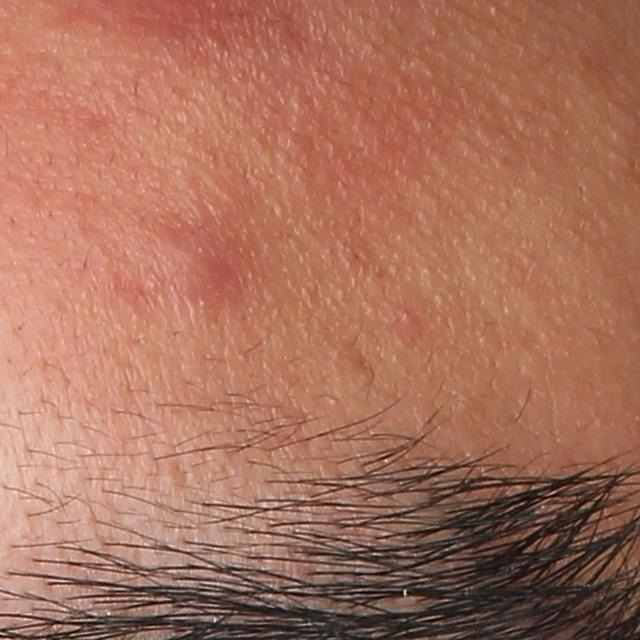papule: (152, 224, 237, 299), (395, 309, 414, 332)
